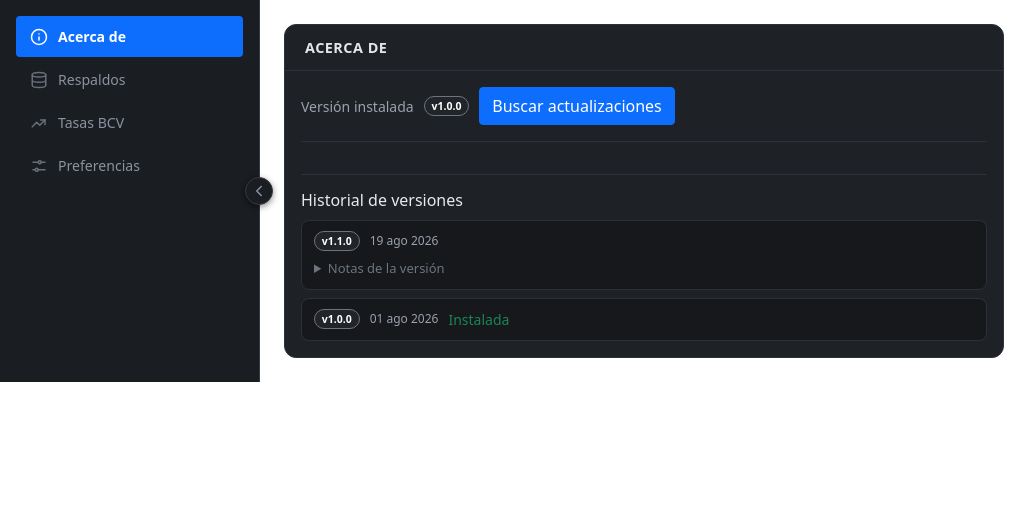
Test: error de descarga se muestra y permite reintentar
Click the button "Buscar actualizaciones" at (577, 106), box [479,87,675,125]
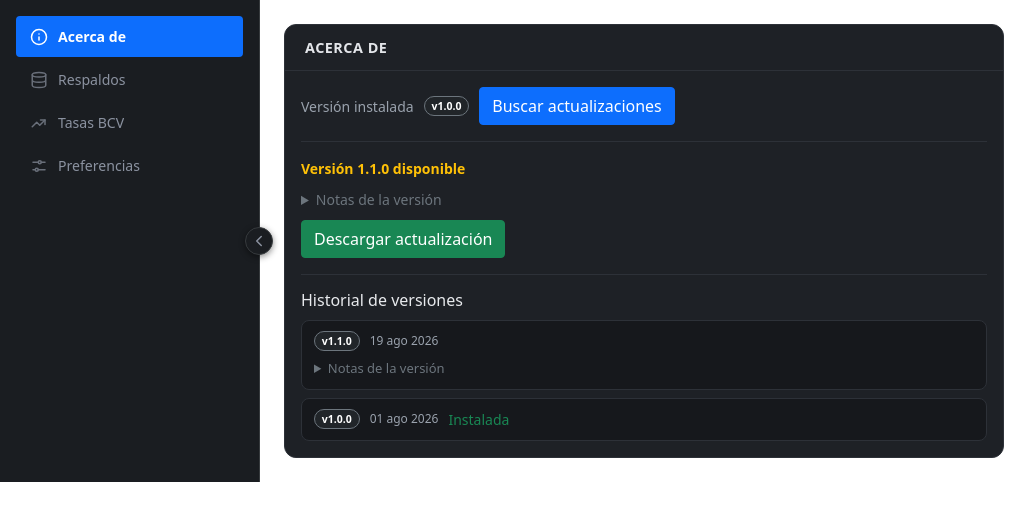
Click the button "Descargar actualización" at (403, 239), box [301,220,506,258]
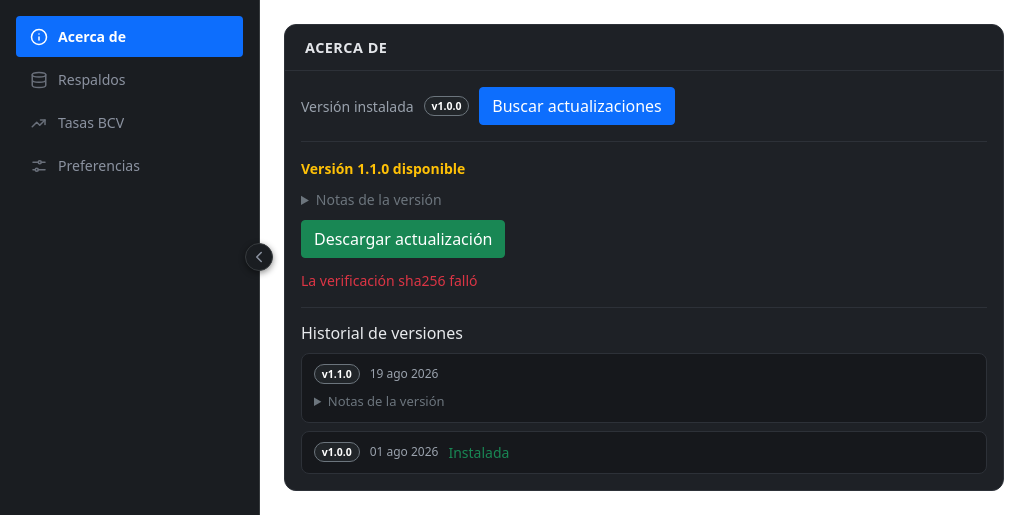
Check: the button "Descargar actualización" is shown, box [301,220,506,258]
Check: the text "La verificación sha256 falló" is shown, box [301,270,478,291]
